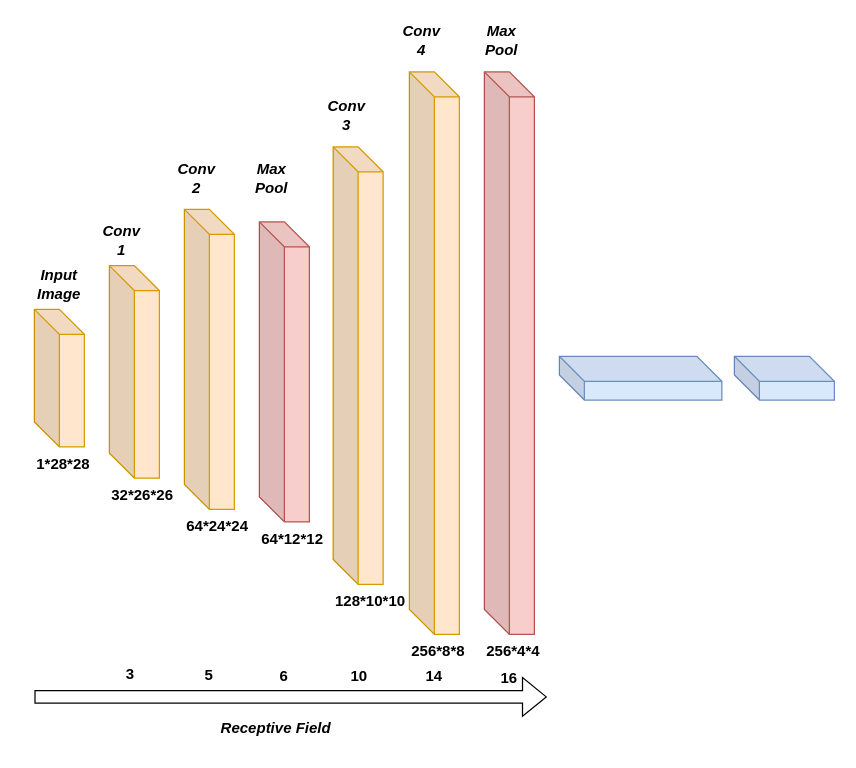
The diagram is 856 pixels wide and 768 high, and some of its shapes have lost their labels. The shapes that lost their labels are listed below. From the top down, each one's centre as x and y in pixels, then its label:
At point (640, 377): "FC1(4096,50)".
At point (783, 377): "FC2(50,10)".
